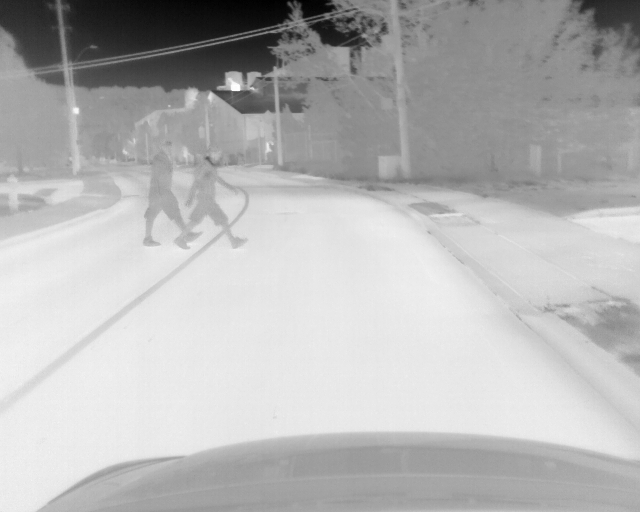people: (176, 147, 246, 253), (141, 137, 202, 250)
